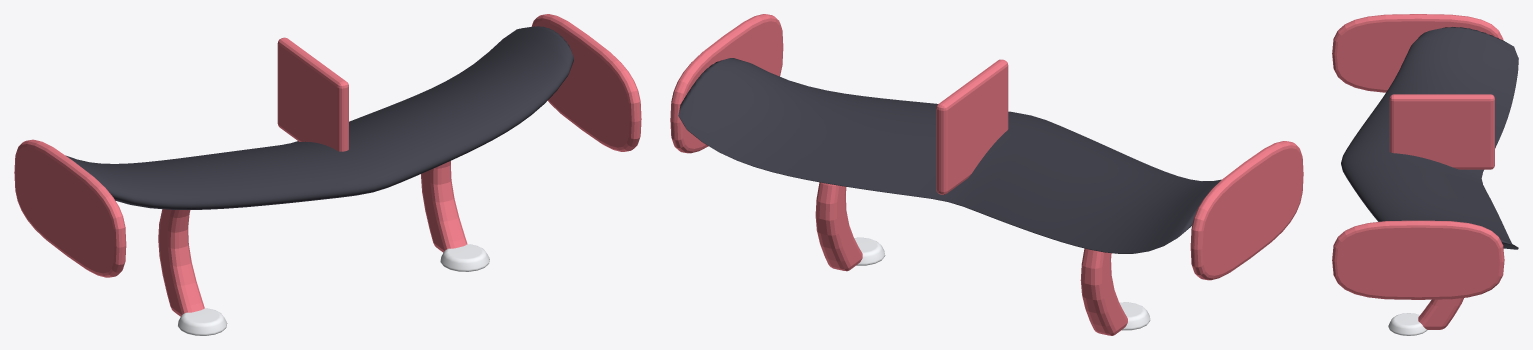
Rendered from spoiler-jet.glb.
3 views of the same model, side by side, from view 1: azimuth 30°, elevation 25°; view 2: azimuth 150°, elevation 25°; view 3: azimuth 270°, elevation 25° (orthographic). The views are drawn at different scales.
Visible parts, largest first — view 1: wing, plate-1, plate1, fin, post-1, post1, pad1, pad-1; view 2: wing, plate-1, fin, plate1, post1, post-1, pad-1, pad1; view 3: wing, plate1, fin, plate-1, post1, pad1.
Part boxes in pixels (x1,y1,x2,y2): wing: (65, 26, 573, 210); plate-1: (14, 139, 126, 277); plate1: (531, 14, 641, 151); fin: (277, 37, 348, 151); post-1: (158, 209, 204, 316); post1: (421, 161, 467, 252); pad1: (440, 244, 489, 271); pad-1: (178, 308, 227, 335); wing: (678, 58, 1221, 253); plate-1: (1190, 141, 1303, 280); fin: (936, 59, 1008, 194); plate1: (670, 14, 783, 153); post1: (815, 182, 862, 271); post-1: (1080, 248, 1127, 335); pad-1: (1119, 302, 1150, 330); pad1: (854, 237, 885, 265); wing: (1341, 27, 1518, 249); plate1: (1332, 220, 1504, 299); fin: (1389, 94, 1494, 169); plate-1: (1332, 14, 1503, 92); post1: (1418, 298, 1463, 329); pad1: (1388, 313, 1427, 335).
Size of the model in its own units: 1.04 by 0.415 by 0.3898.
